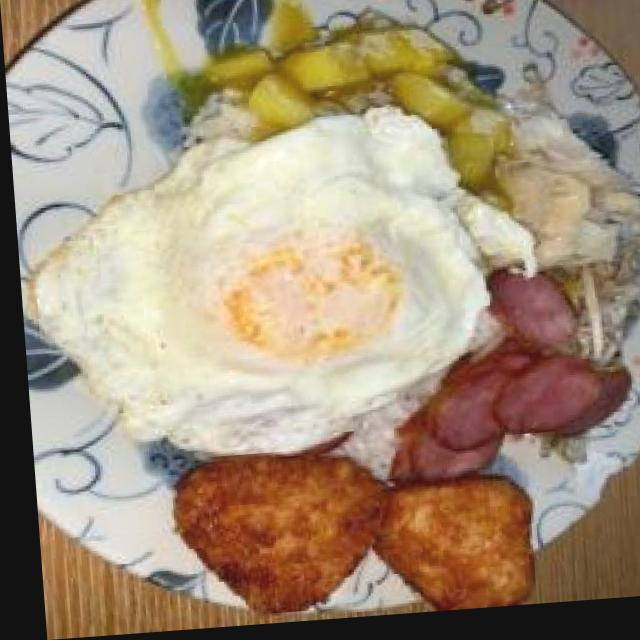chinese_cabbage: (502, 119, 634, 274)
chinese_sausage: (407, 266, 618, 492)
curry: (243, 24, 499, 134)
fried_eggs: (23, 108, 493, 474)
mung_bean_sprouts: (563, 269, 634, 373)
rice: (338, 406, 405, 483), (185, 99, 247, 148)
triangle_hash_brown: (160, 441, 535, 632)
